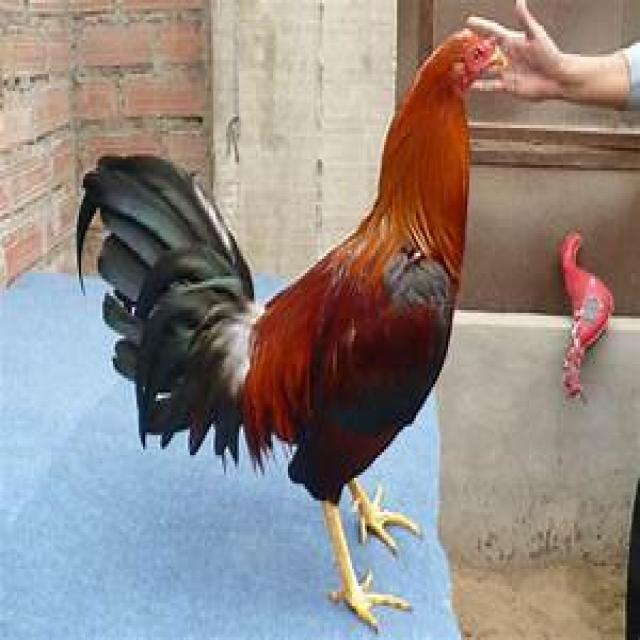hen: (79, 17, 625, 623)
